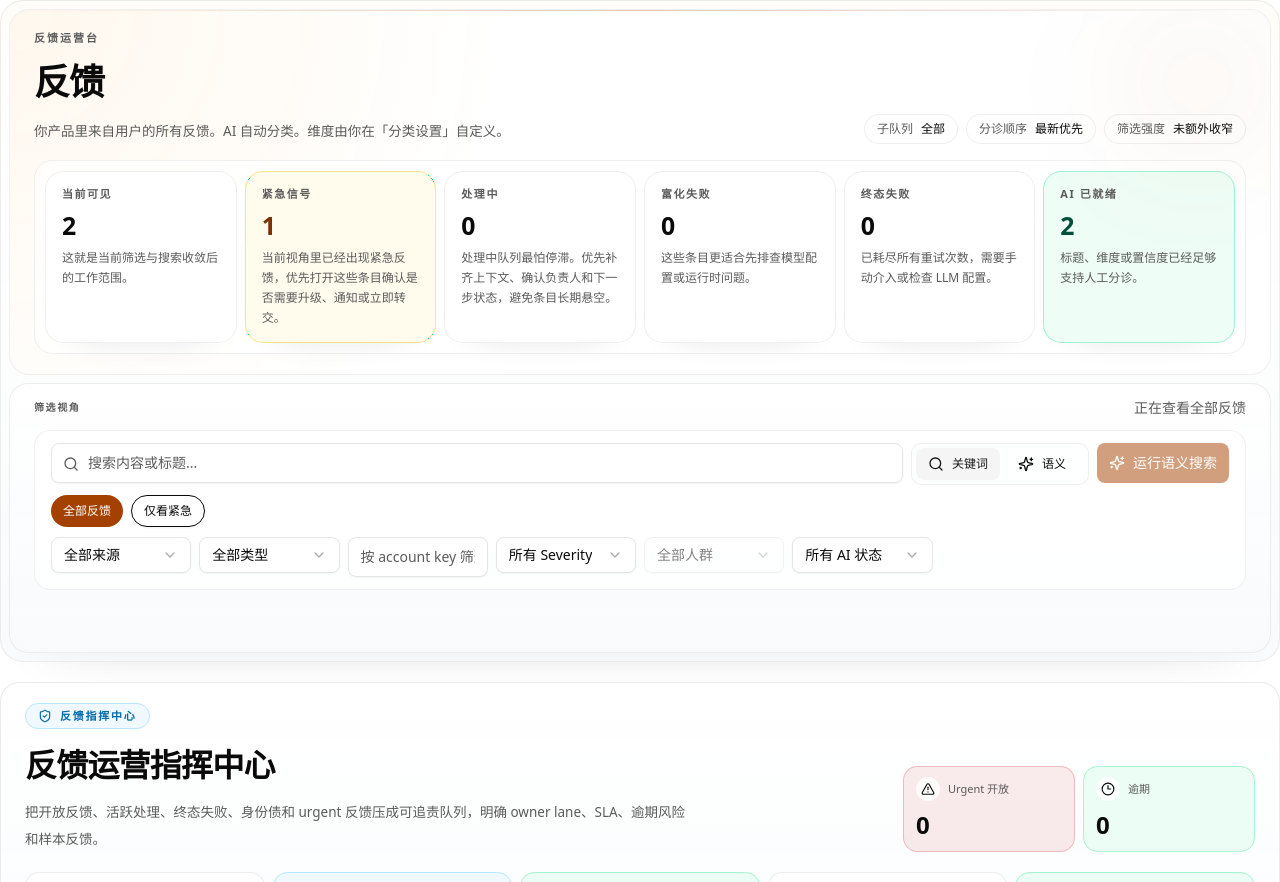
Test: _authed.feedback route — user flow smoke › quick urgent scope narrows the queue to urgent feedback only
The width and height of the screenshot is (1280, 882).
Click the button "仅看紧急" at (168, 511), box 131,495 -> 205,527
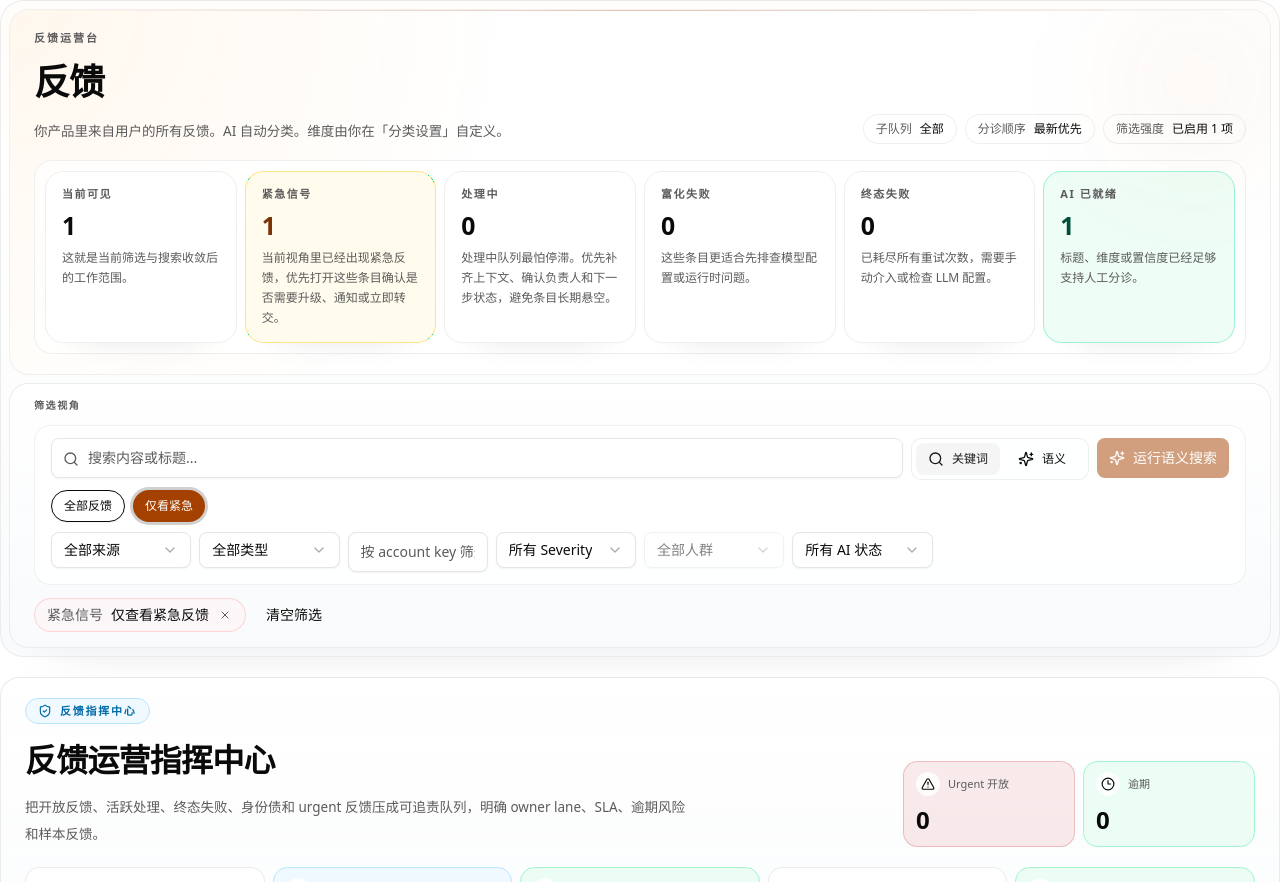
Check: the text "仅查看紧急反馈" is shown, box 111,605 -> 209,625
